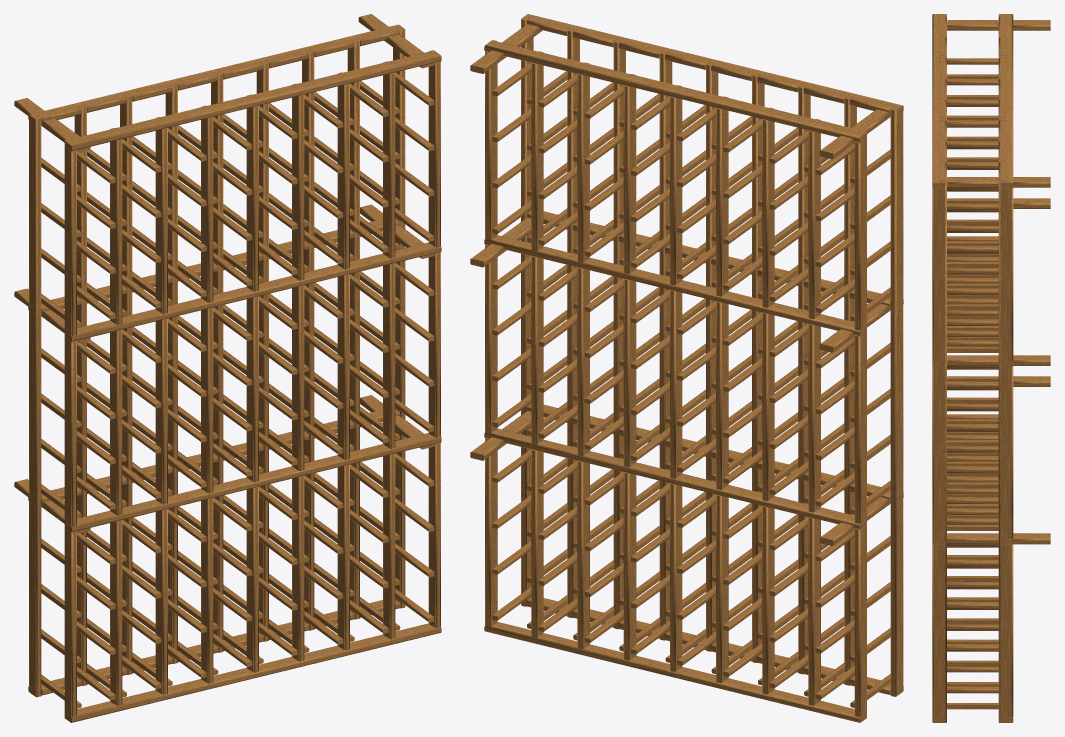
Rendered from VCKB0010.glb.
The picture shows the model from 3 angles, left to right: view 1: azimuth 30°, elevation 25°; view 2: azimuth 150°, elevation 25°; view 3: azimuth 270°, elevation 25°; orthographic projection. The views are drawn at different scales.
Visible parts, largest first — view 1: G-Difference.017; view 2: G-Difference.017; view 3: G-Difference.017.
Part boxes in pixels (left/top/right/bottom): G-Difference.017: left=14, top=14, right=441, bottom=722; G-Difference.017: left=470, top=14, right=903, bottom=722; G-Difference.017: left=932, top=14, right=1050, bottom=722.
Bounding box in the file's own units: 0.812 × 1.21 × 0.241.
Materials: 3 (3 with a texture image).
